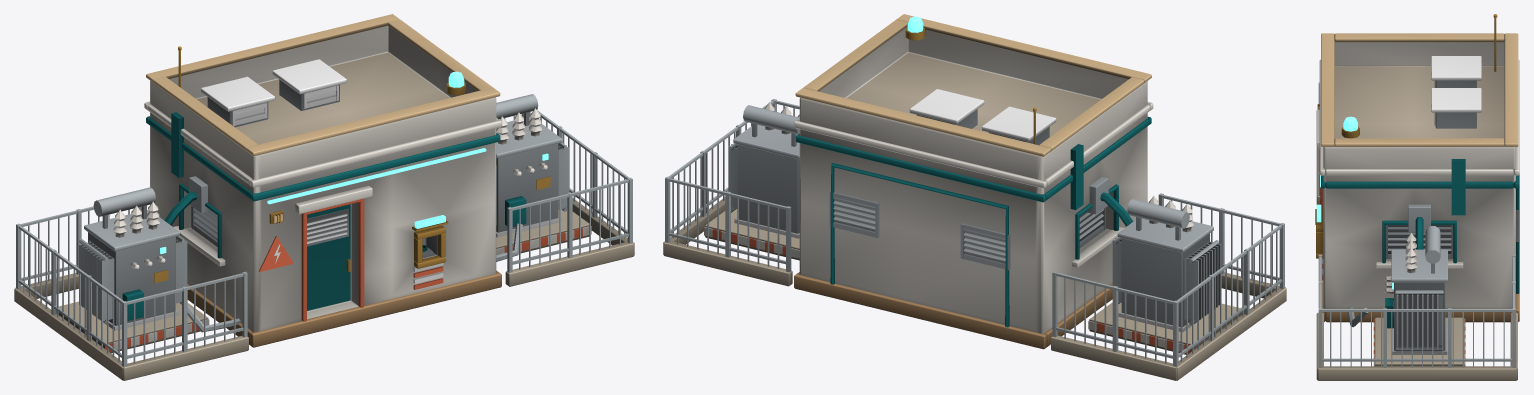
The model's file is bldg_substation.fbx.
The picture shows the model from 3 angles, left to right: view 1: azimuth 30°, elevation 25°; view 2: azimuth 150°, elevation 25°; view 3: azimuth 270°, elevation 25°; orthographic projection. The views are drawn at different scales.
Parts seen in each view (by area): view 1: bldg_substation, PowerLights; view 2: bldg_substation; view 3: bldg_substation, PowerLights.
Part boxes in pixels (x1,y1,x2,y2): bldg_substation: (14,14,634,380); PowerLights: (160,71,548,253); bldg_substation: (663,14,1286,380); bldg_substation: (1315,14,1519,380); PowerLights: (1316,116,1393,289).
Size of the model in its own units: 11.8 by 4.98 by 4.45.
